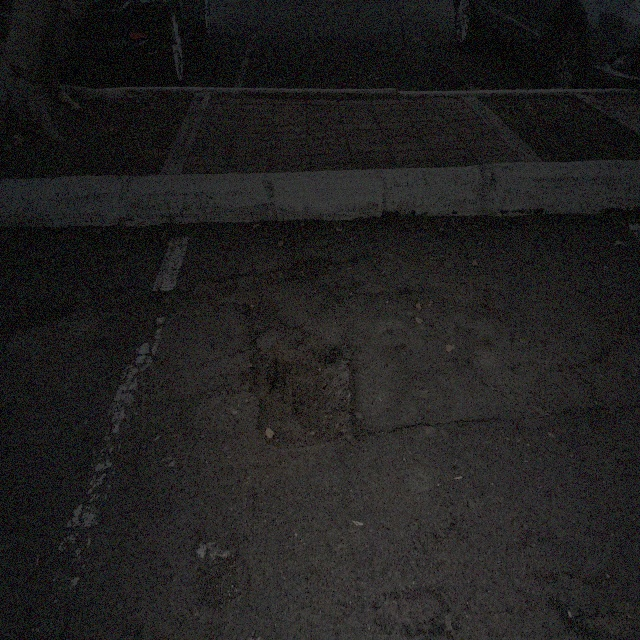pothole: (11, 276, 166, 417), (165, 246, 342, 320), (248, 346, 363, 453), (578, 278, 636, 341)
